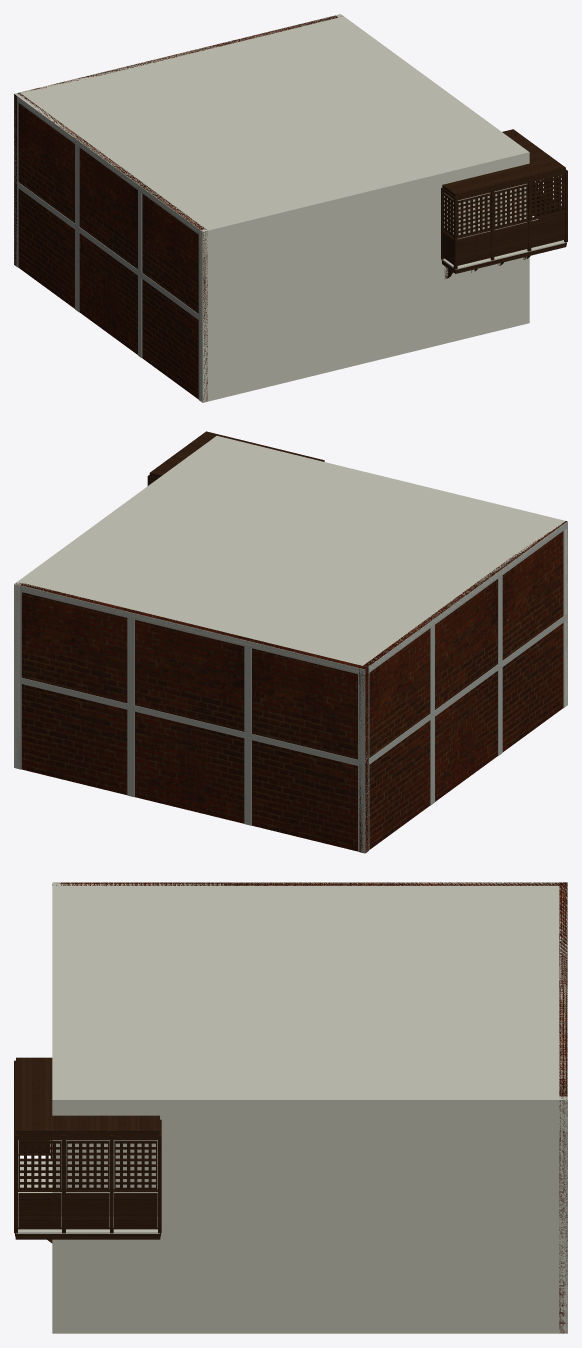
Rendered from building.glb.
3 views of the same model, one above another, from view 1: azimuth 30°, elevation 25°; view 2: azimuth 150°, elevation 25°; view 3: azimuth 270°, elevation 25° (orthographic). The views are drawn at different scales.
Parts seen in each view (by area): view 1: roof/house:0/roof_slab#0001, house:0/edge0/z0/house:0/edge0/z0/wall_0_0, house:0/edge3/z0/house:0/edge3/z0/wall_0_0, balcony/sample/balcony_cover#0001, house:0/edge1/z0/house:0/edge1/z0/wall_0_0, house:0/edge2/z0/house:0/edge2/z0/wall_0_0, house:0/edge3/z0/house:0/edge3/z0/beam_0_0, house:0/edge3/z0/house:0/edge3/z0/beam_1_0, balcony/sample/balcony_fretwork#0002, balcony/sample/balcony_fretwork#0003, balcony/sample/balcony_fretwork#0004, balcony/sample/balcony_panel#0002 (+4 smaller); view 2: roof/house:0/roof_slab#0001, house:0/edge2/z0/house:0/edge2/z0/wall_0_0, house:0/edge3/z0/house:0/edge3/z0/wall_0_0, house:0/edge2/z0/house:0/edge2/z0/beam_0_0, house:0/edge2/z0/house:0/edge2/z0/beam_1_0, house:0/edge1/z0/house:0/edge1/z0/wall_0_0, house:0/edge0/z0/house:0/edge0/z0/wall_0_0, house:0/edge3/z0/house:0/edge3/z0/beam_1_0, house:0/edge3/z0/house:0/edge3/z0/beam_0_0, balcony/sample/balcony_cover#0001, house:0/edge2/z0/house:0/edge2/z0/column_2_0, house:0/edge2/z0/house:0/edge2/z0/column_3_0 (+4 smaller); view 3: roof/house:0/roof_slab#0001, house:0/edge1/z0/house:0/edge1/z0/wall_0_0, balcony/sample/balcony_cover#0001, house:0/edge0/z0/house:0/edge0/z0/wall_0_0, house:0/edge2/z0/house:0/edge2/z0/wall_0_0, house:0/edge3/z0/house:0/edge3/z0/wall_0_0, balcony/sample/balcony_fretwork#0005, balcony/sample/balcony_fretwork#0007, balcony/sample/balcony_fretwork#0006, balcony/sample/balcony_panel#0005, balcony/sample/balcony_panel#0006, balcony/sample/balcony_panel#0007 (+3 smaller).
Boxes of the visible parts, box(x1,y1,x2,y2) form: roof/house:0/roof_slab#0001: box(14, 16, 528, 235); house:0/edge0/z0/house:0/edge0/z0/wall_0_0: box(199, 151, 529, 402); house:0/edge3/z0/house:0/edge3/z0/wall_0_0: box(17, 92, 207, 401); balcony/sample/balcony_cover#0001: box(442, 129, 565, 197); house:0/edge1/z0/house:0/edge1/z0/wall_0_0: box(336, 14, 529, 324); house:0/edge2/z0/house:0/edge2/z0/wall_0_0: box(14, 15, 337, 266); house:0/edge3/z0/house:0/edge3/z0/beam_0_0: box(14, 180, 202, 322); house:0/edge3/z0/house:0/edge3/z0/beam_1_0: box(14, 96, 202, 236); balcony/sample/balcony_fretwork#0002: box(457, 194, 491, 236); balcony/sample/balcony_fretwork#0003: box(494, 185, 527, 227); balcony/sample/balcony_fretwork#0004: box(531, 177, 564, 217); balcony/sample/balcony_panel#0002: box(457, 231, 491, 265); roof/house:0/roof_slab#0001: box(15, 436, 566, 673); house:0/edge2/z0/house:0/edge2/z0/wall_0_0: box(16, 582, 368, 852); house:0/edge3/z0/house:0/edge3/z0/wall_0_0: box(359, 521, 566, 852); house:0/edge2/z0/house:0/edge2/z0/beam_0_0: box(14, 677, 365, 767); house:0/edge2/z0/house:0/edge2/z0/beam_1_0: box(15, 585, 365, 675); house:0/edge1/z0/house:0/edge1/z0/wall_0_0: box(14, 436, 221, 768); house:0/edge0/z0/house:0/edge0/z0/wall_0_0: box(214, 436, 567, 707); house:0/edge3/z0/house:0/edge3/z0/beam_1_0: box(366, 521, 567, 672); house:0/edge3/z0/house:0/edge3/z0/beam_0_0: box(365, 613, 567, 764); balcony/sample/balcony_cover#0001: box(149, 431, 324, 477); house:0/edge2/z0/house:0/edge2/z0/column_2_0: box(127, 618, 134, 705); house:0/edge2/z0/house:0/edge2/z0/column_3_0: box(244, 646, 251, 733); roof/house:0/roof_slab#0001: box(52, 882, 567, 1105); house:0/edge1/z0/house:0/edge1/z0/wall_0_0: box(52, 1096, 567, 1333); balcony/sample/balcony_cover#0001: box(16, 1057, 159, 1134); house:0/edge0/z0/house:0/edge0/z0/wall_0_0: box(52, 882, 60, 1333); house:0/edge2/z0/house:0/edge2/z0/wall_0_0: box(559, 882, 567, 1333); house:0/edge3/z0/house:0/edge3/z0/wall_0_0: box(52, 882, 567, 885); balcony/sample/balcony_fretwork#0005: box(18, 1142, 61, 1189); balcony/sample/balcony_fretwork#0007: box(114, 1142, 157, 1189); balcony/sample/balcony_fretwork#0006: box(66, 1142, 109, 1189); balcony/sample/balcony_panel#0005: box(18, 1193, 61, 1228); balcony/sample/balcony_panel#0006: box(66, 1193, 109, 1228); balcony/sample/balcony_panel#0007: box(114, 1193, 157, 1228).
Bounding box in the file's own units: 12.9 × 6 × 12.89.
Materials: 4 (2 with a texture image).
